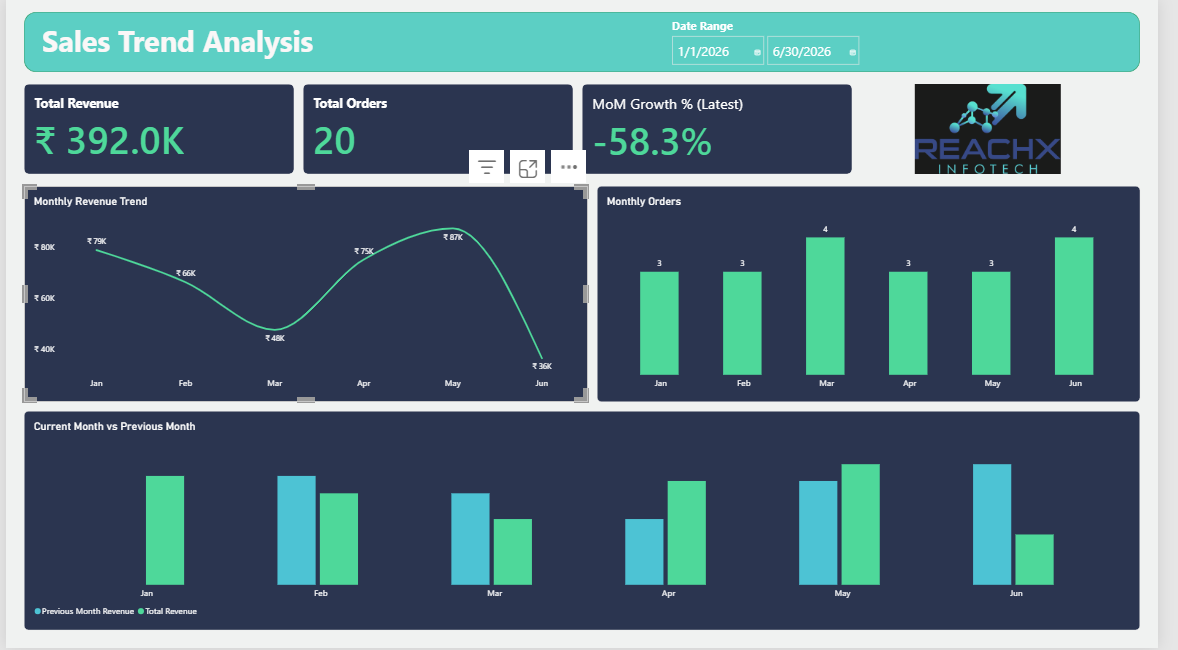

The page's visual inventory and layout, read from the dashboard file:
{"tool":"powerbi","page":{"name":"Sales Trend","canvas":[1920,1080],"ordinal":3},"visuals":[{"type":"shape","box":[30,20,1860,100],"z":0},{"type":"slicer","fields":{"Values":["Calendar.Date"]},"box":[1102.5,55,760,70],"z":1000},{"type":"textbox","box":[1110.9,29,207.5,47.5],"z":2000},{"type":"textbox","box":[60,35,580,97.5],"z":3000},{"type":"cardVisual","fields":{"Data":["public order_items.Total Revenue"]},"box":[30,140,450,150],"z":4000},{"type":"cardVisual","fields":{"Data":["public orders.Total Orders"]},"box":[495,140,450,150],"z":5000},{"type":"cardVisual","fields":{"Data":["public order_items.MoM Growth % (Latest)"]},"box":[960,140,450,150],"z":6000},{"type":"lineChart","title":"Monthly Revenue Trend","fields":{"Category":["Calendar.Month Name"],"Y":["public order_items.Total Revenue"]},"box":[30,310,940,360],"z":7000},{"type":"clusteredColumnChart","title":"Monthly Orders","fields":{"Category":["Calendar.Month Name"],"Y":["public orders.Total Orders"]},"box":[985,310,905,360],"z":8000},{"type":"clusteredColumnChart","title":"Current Month vs Previous Month","fields":{"Category":["Calendar.Month Name"],"Y":["public order_items.Previous Month Revenue","public order_items.Total Revenue"]},"box":[30,685,1860,365],"z":9000},{"type":"image","box":[1410,140,452.5,150],"z":11000}]}

Visuals, with their boxes in screenshot pixels (x1, y1, x2, y2), scaled from the page's 1920x1080 canvas onto the 1178x650 screenshot:
shape: locate(18, 12, 1160, 72)
slicer - Calendar.Date: locate(676, 33, 1143, 75)
textbox: locate(682, 17, 809, 46)
textbox: locate(37, 21, 393, 80)
cardVisual - public order_items.Total Revenue: locate(18, 84, 294, 175)
cardVisual - public orders.Total Orders: locate(304, 84, 580, 175)
cardVisual - public order_items.MoM Growth % (Latest): locate(589, 84, 865, 175)
"Monthly Revenue Trend" lineChart: locate(18, 187, 595, 403)
"Monthly Orders" clusteredColumnChart: locate(604, 187, 1160, 403)
"Current Month vs Previous Month" clusteredColumnChart: locate(18, 412, 1160, 632)
image: locate(865, 84, 1143, 175)
